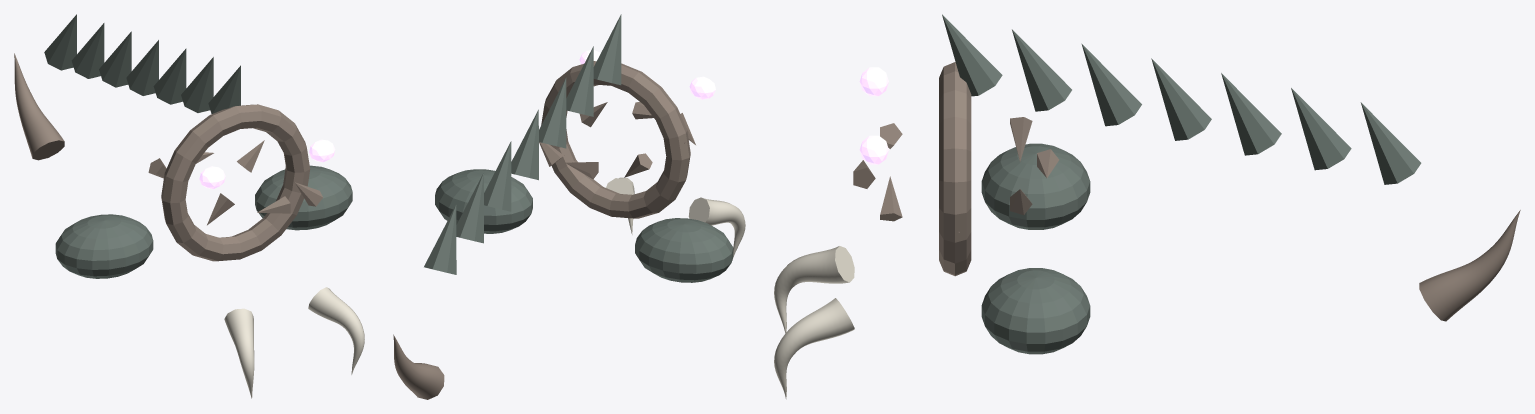
File: mob_wolf-decor.glb
3 views of the same model, side by side, from view 1: azimuth 30°, elevation 25°; view 2: azimuth 150°, elevation 25°; view 3: azimuth 270°, elevation 25° (orthographic). The views are drawn at different scales.
Visible parts, largest first — view 1: mob_wolf_decor; view 2: mob_wolf_decor; view 3: mob_wolf_decor.
Part boxes in pixels (<box>): mob_wolf_decor: <box>14,14,364,398</box>; mob_wolf_decor: <box>393,14,745,399</box>; mob_wolf_decor: <box>774,14,1520,399</box>.
Size of the model in its own units: 0.5746 by 0.533 by 1.02.
